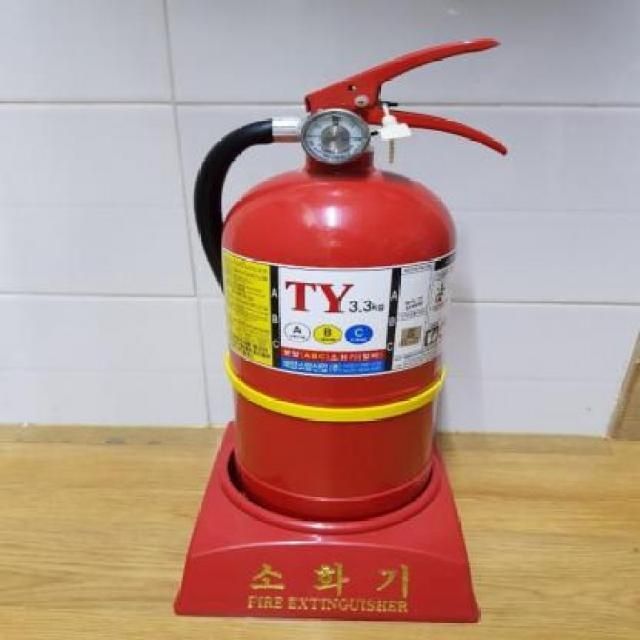fire extinguisher: (194, 37, 508, 520)
